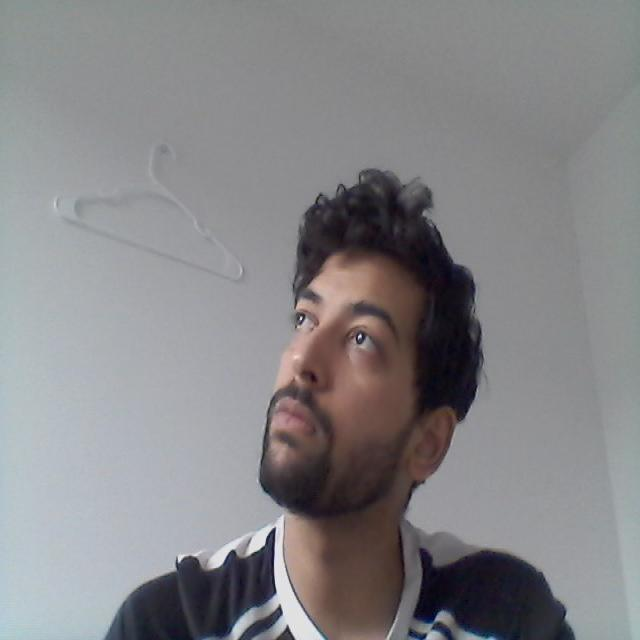nocap: (250, 164, 501, 417)
